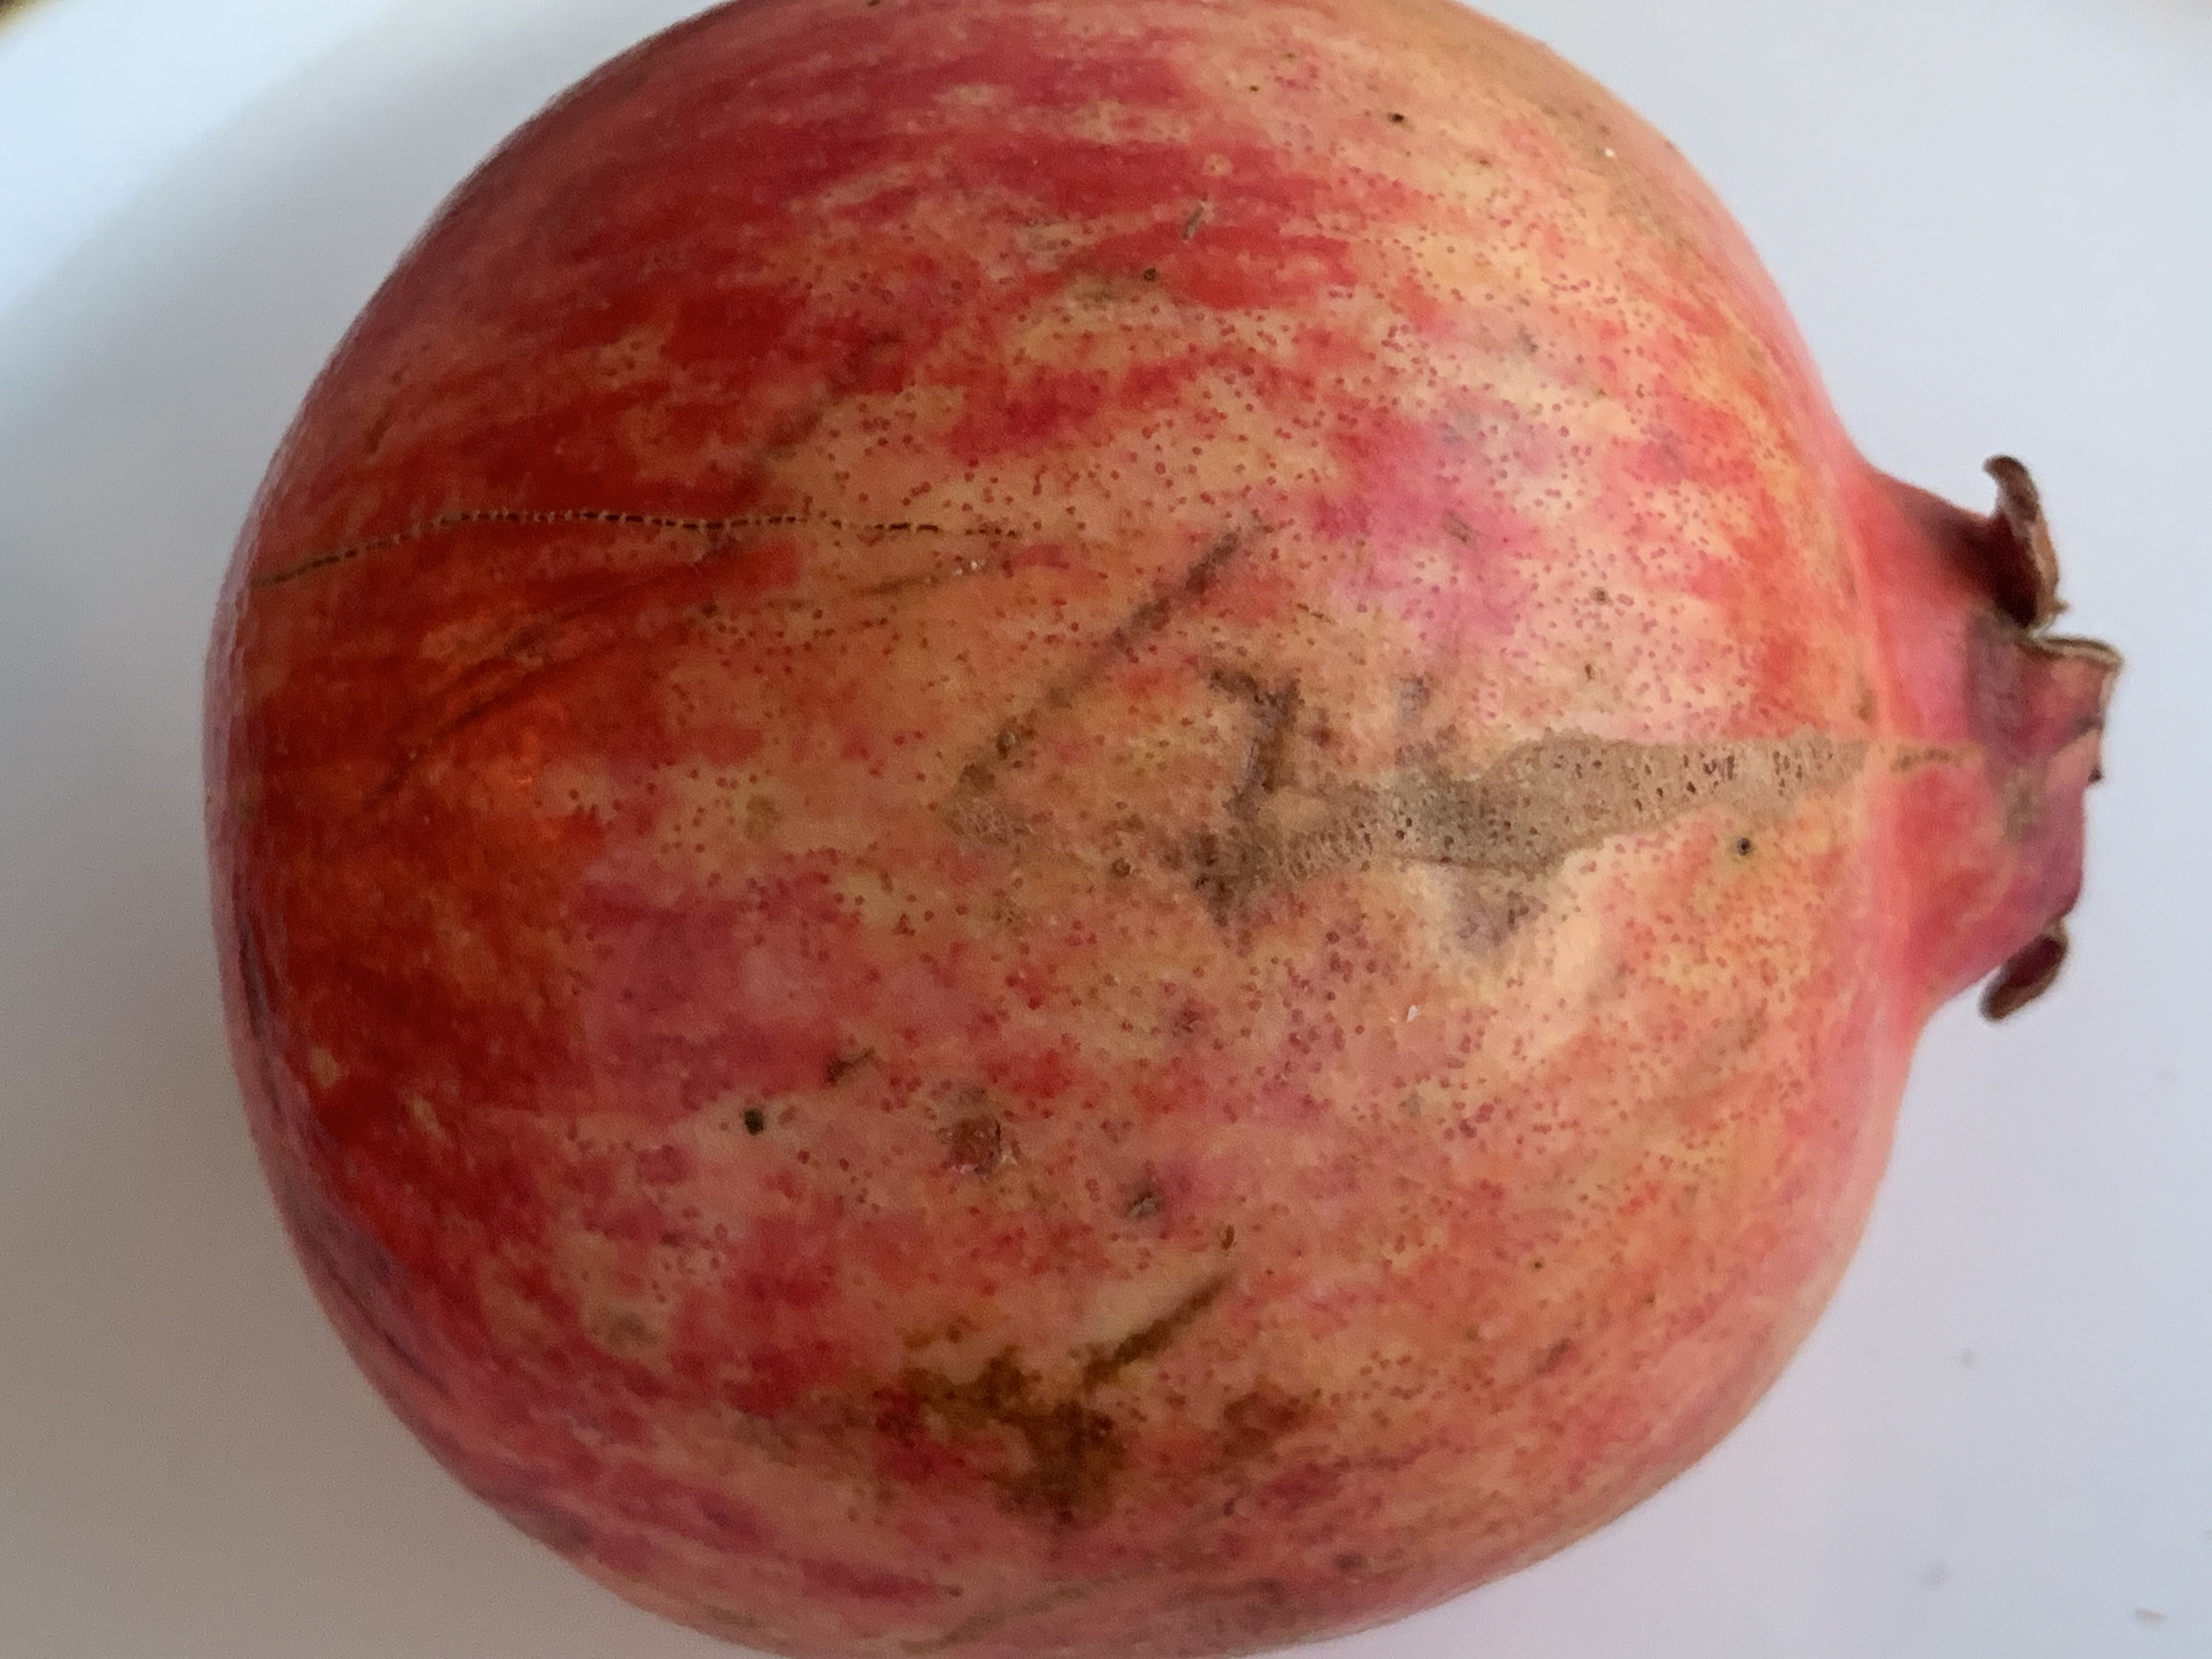Pomegranate: (254, 5, 2116, 1626)
